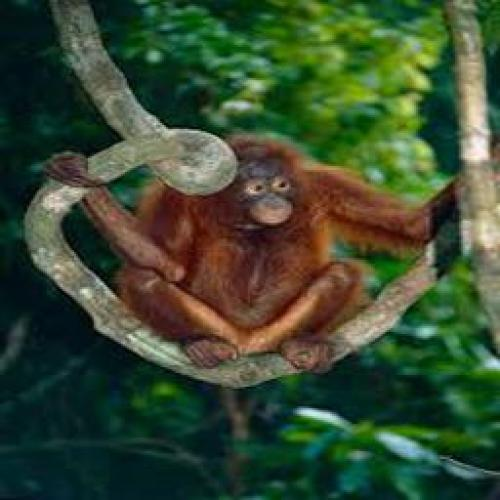orangutan-endangered: (39, 137, 499, 374)
